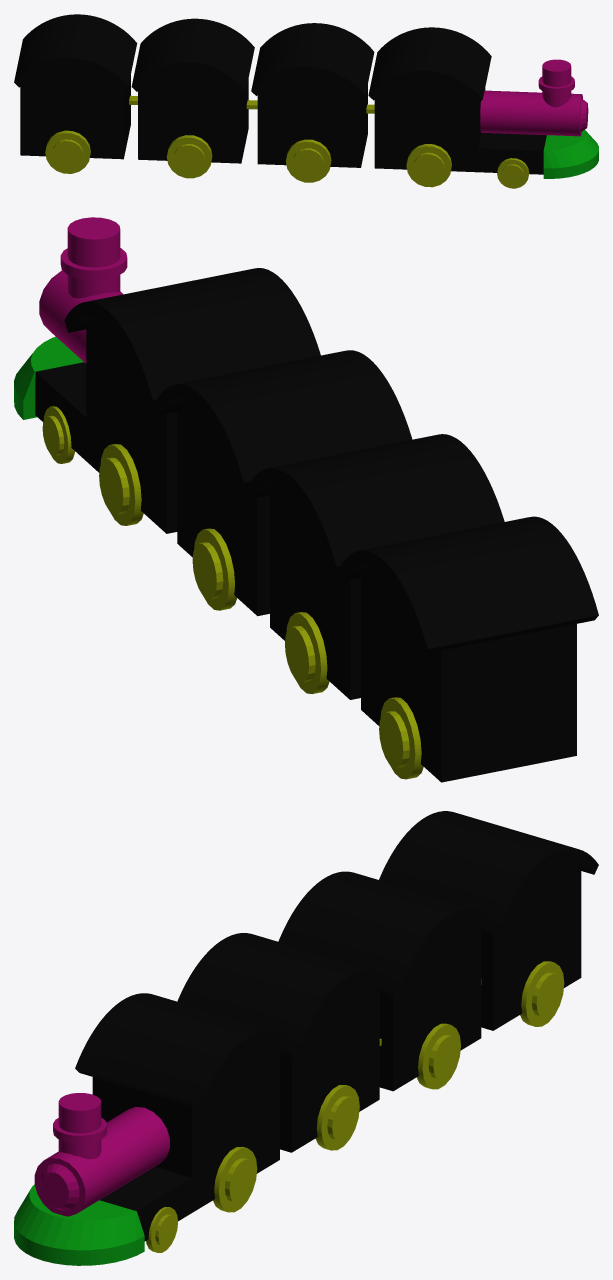
Rendered from Train.FBX.
3 views of the same model, one above another, from view 1: azimuth 30°, elevation 25°; view 2: azimuth 150°, elevation 25°; view 3: azimuth 270°, elevation 25° (orthographic). The views are drawn at different scales.
Visible parts, largest first — view 1: Arc001; view 2: Arc001; view 3: Arc001.
Boxes of the visible parts, x1=… form: Arc001: x1=14, y1=14, x2=598, y2=188; Arc001: x1=14, y1=217, x2=598, y2=782; Arc001: x1=14, y1=811, x2=598, y2=1265.
Size of the model in its own units: 16.63 by 4.2 by 12.77.
